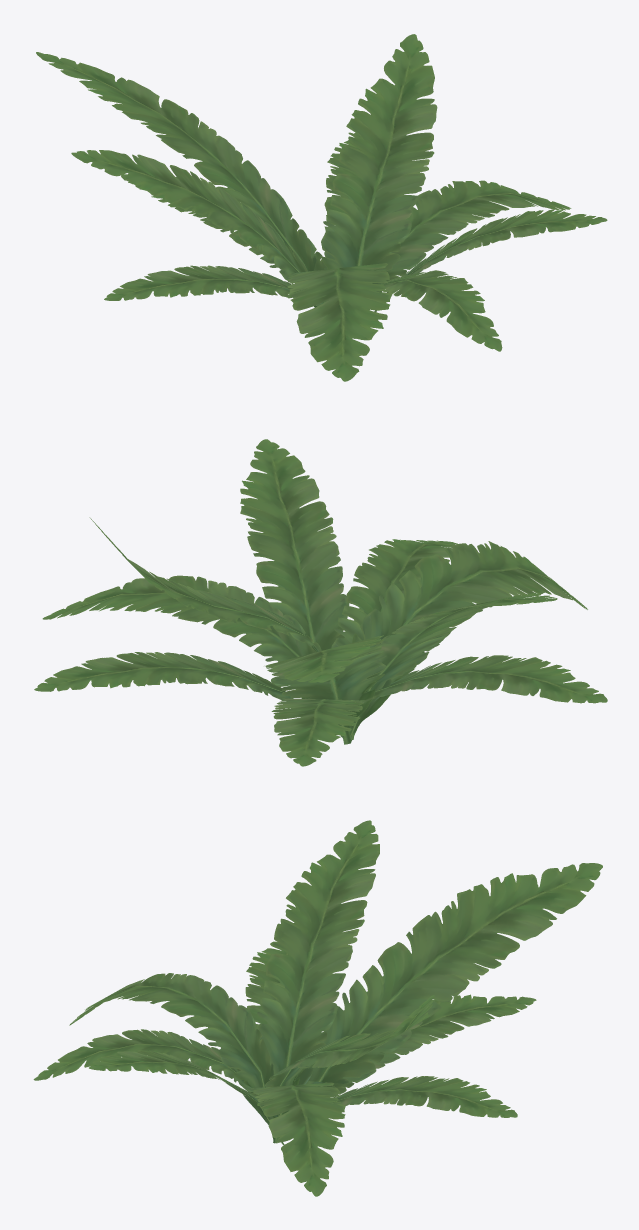
File: SM_EastLands_LongLeaves_01.fbx
The picture shows the model from 3 angles, top to bottom: view 1: azimuth 30°, elevation 25°; view 2: azimuth 150°, elevation 25°; view 3: azimuth 270°, elevation 25°; orthographic projection. The views are drawn at different scales.
Visible parts, largest first — view 1: SM_EastLands_LongLeaves_01_LOD0; view 2: SM_EastLands_LongLeaves_01_LOD0; view 3: SM_EastLands_LongLeaves_01_LOD0.
Boxes of the visible parts, x1,y1,x2,y2 form: SM_EastLands_LongLeaves_01_LOD0: [36, 34, 607, 381]; SM_EastLands_LongLeaves_01_LOD0: [34, 439, 607, 766]; SM_EastLands_LongLeaves_01_LOD0: [33, 820, 602, 1196].
Bounding box in the file's own units: 210 × 91.64 × 219.
